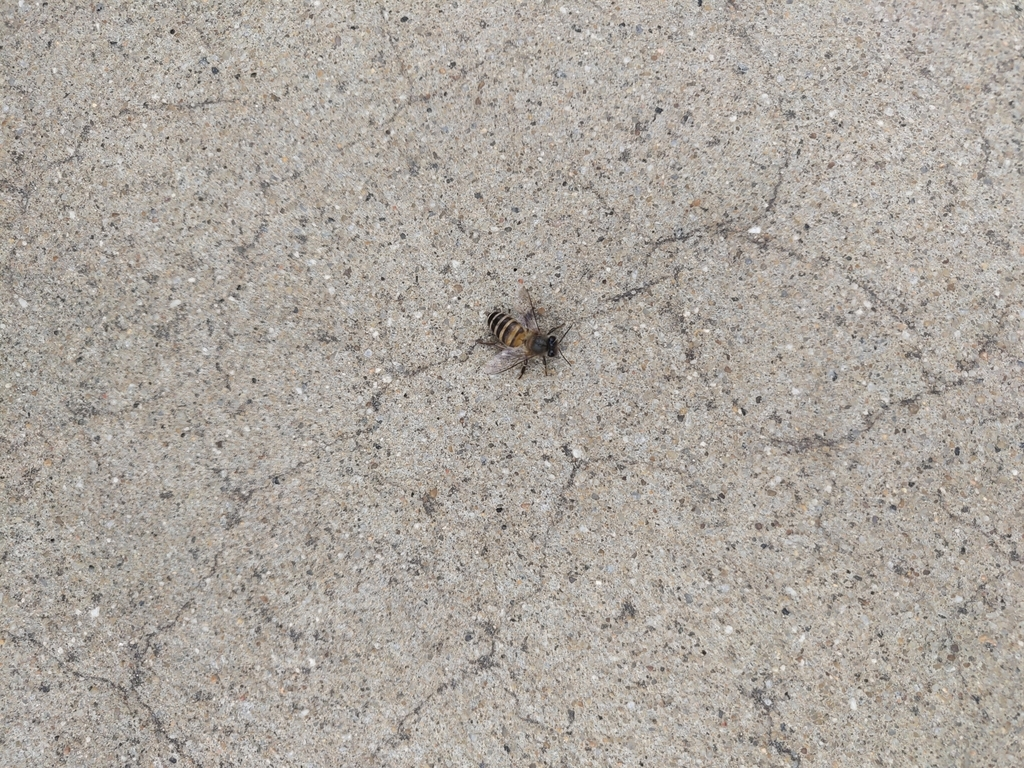honeybee: (476, 286, 571, 379)
